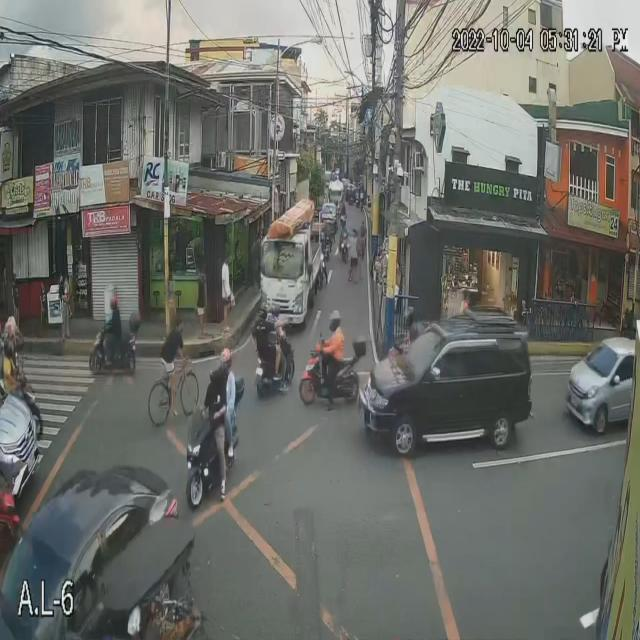full: (329, 312, 341, 332), (4, 340, 14, 359), (259, 301, 266, 319), (272, 301, 280, 316), (109, 296, 118, 309)
half: (220, 347, 232, 374), (209, 363, 221, 384)
